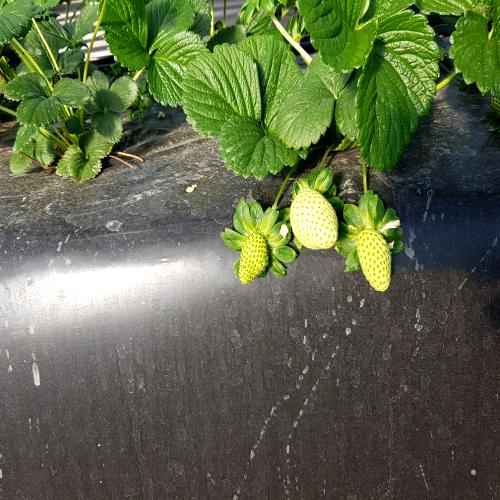unripe: (282, 177, 340, 260), (235, 225, 281, 297), (358, 220, 399, 292)
